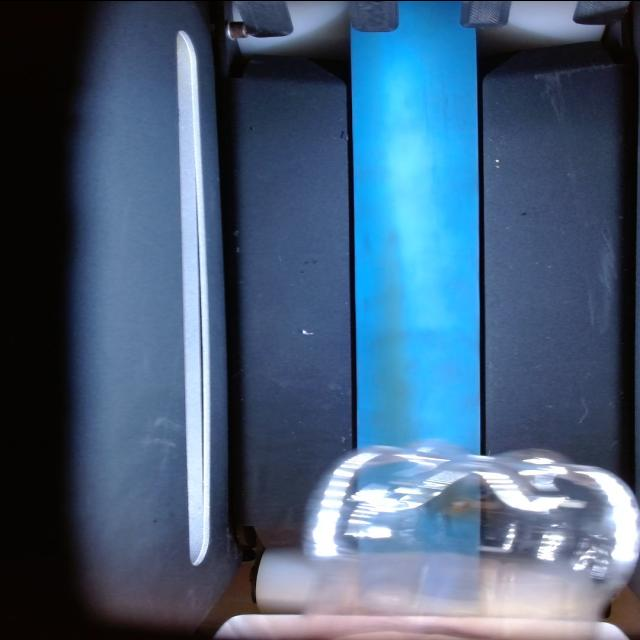bottom: (313, 444, 640, 554)
